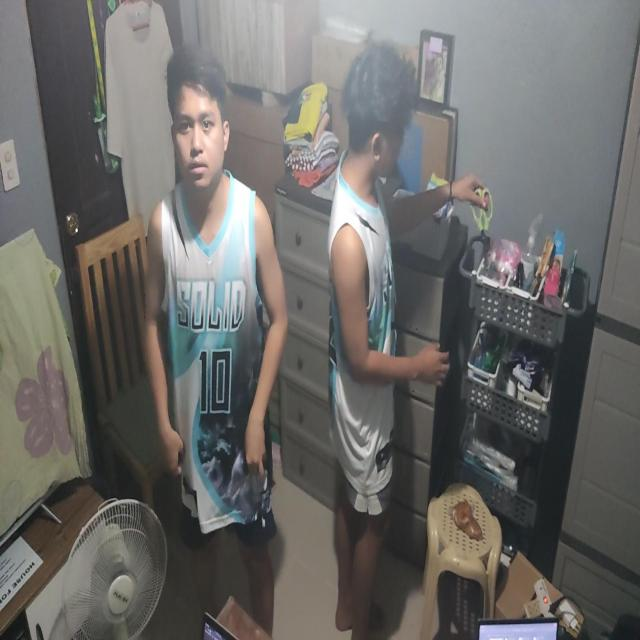scissor: (469, 184, 494, 274)
